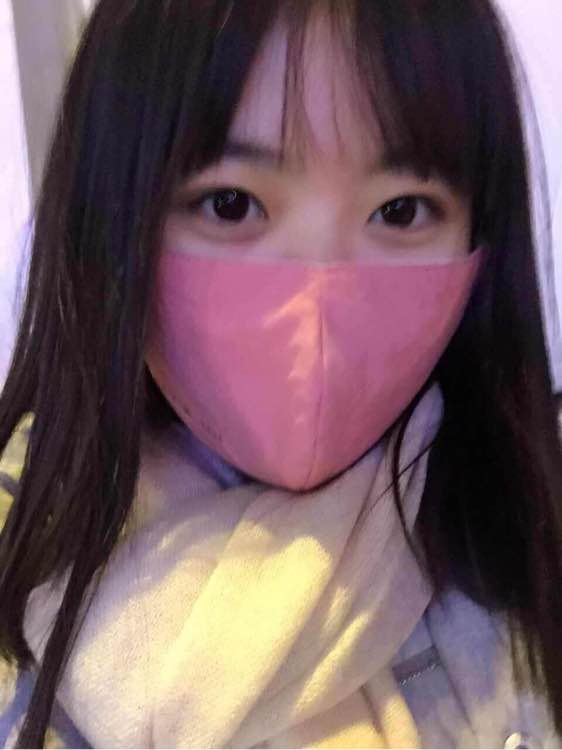face_mask: (149, 0, 479, 487)
